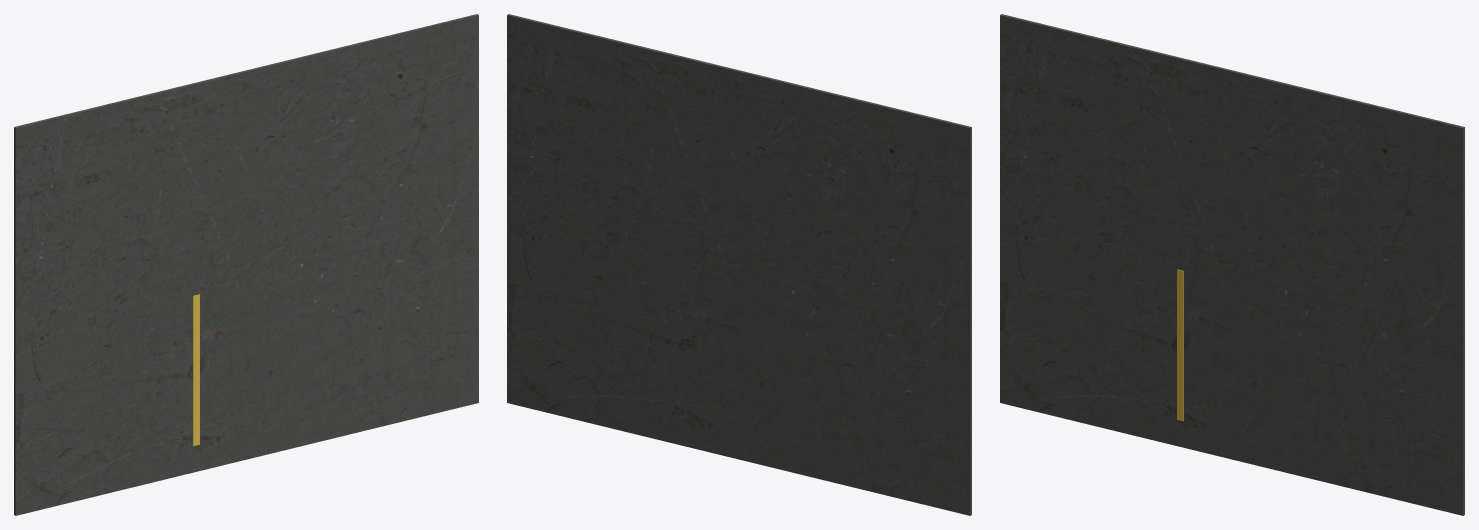
Rendered from shelf_picking_floor.glb.
3 renders of one model, left to right at view 1: azimuth 30°, elevation 25°; view 2: azimuth 150°, elevation 25°; view 3: azimuth 330°, elevation 25°, orthographic.
Visible parts, largest first — view 1: FLOOR_slab, FLOOR_lane; view 2: FLOOR_slab; view 3: FLOOR_slab, FLOOR_lane.
Boxes of the visible parts, x1,y1,x2,y2 form: FLOOR_slab: (14,14,478,515); FLOOR_lane: (193,294,199,446); FLOOR_slab: (507,14,971,515); FLOOR_slab: (1000,14,1464,515); FLOOR_lane: (1177,269,1183,421).
Bounding box in the file's own units: 5 × 4 × 0.037.
Materials: 2 (1 with a texture image).
